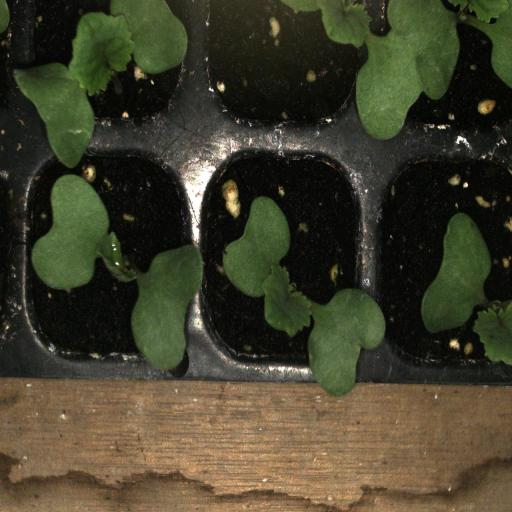Germinacao: (194, 144, 372, 373), (18, 143, 194, 372), (372, 143, 512, 373), (16, 0, 196, 141), (377, 0, 512, 137)
